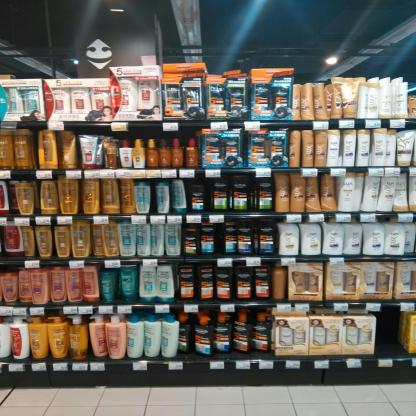empty_space: (377, 312, 398, 360)
